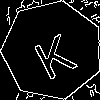K: (27, 25, 79, 81)
